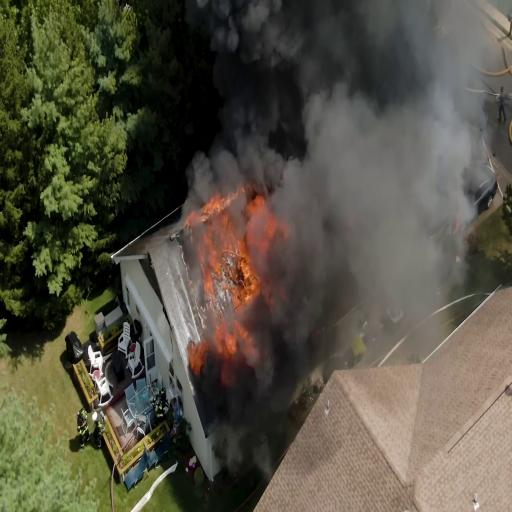fire: (194, 203, 262, 312)
smoke: (284, 4, 469, 142), (313, 109, 427, 279)
